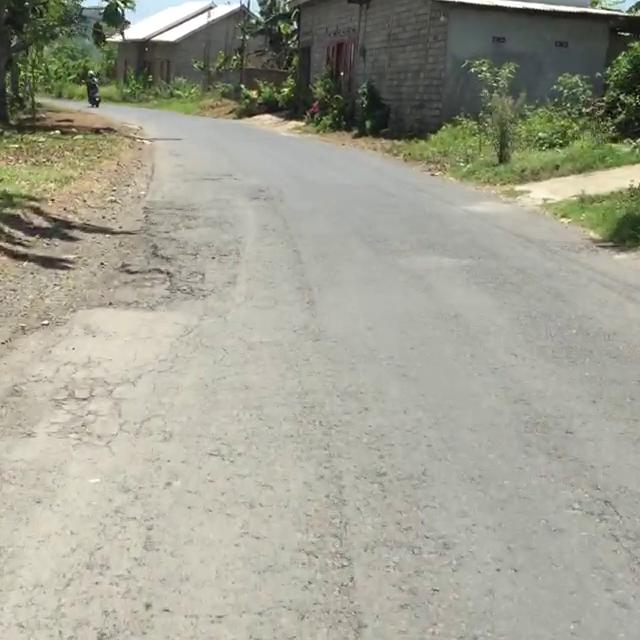retak_kulit_buaya: (43, 353, 153, 460)
